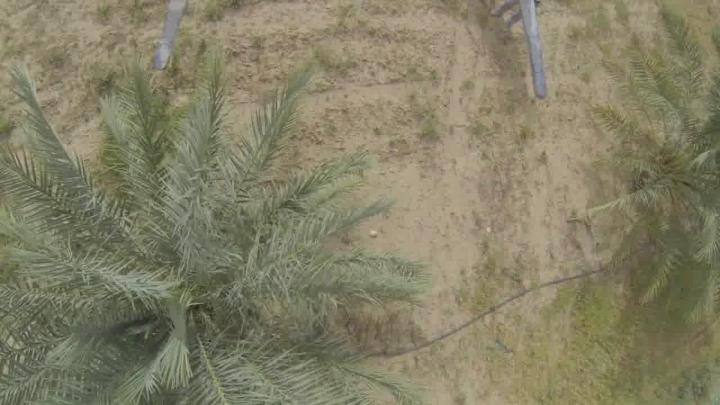Date-Palm-Crown: (0, 149, 288, 405), (628, 44, 720, 290)
